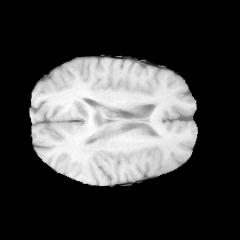glioma: (70, 99, 117, 156)
